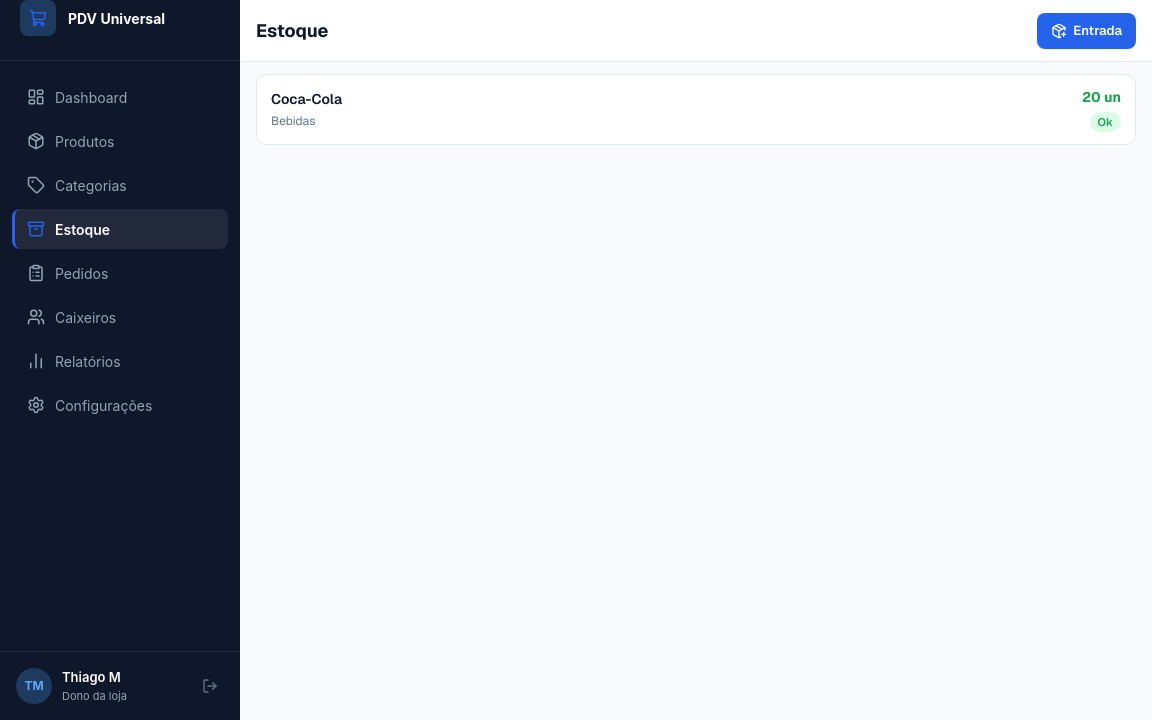
Test case: EstoquePage › opens the entrada sheet when "Entrada" button is clicked
What coordinates should you click on to do the following:
click the button "Entrada"
I would click on:
 (1087, 30)
Its box is [1037,12,1136,48].
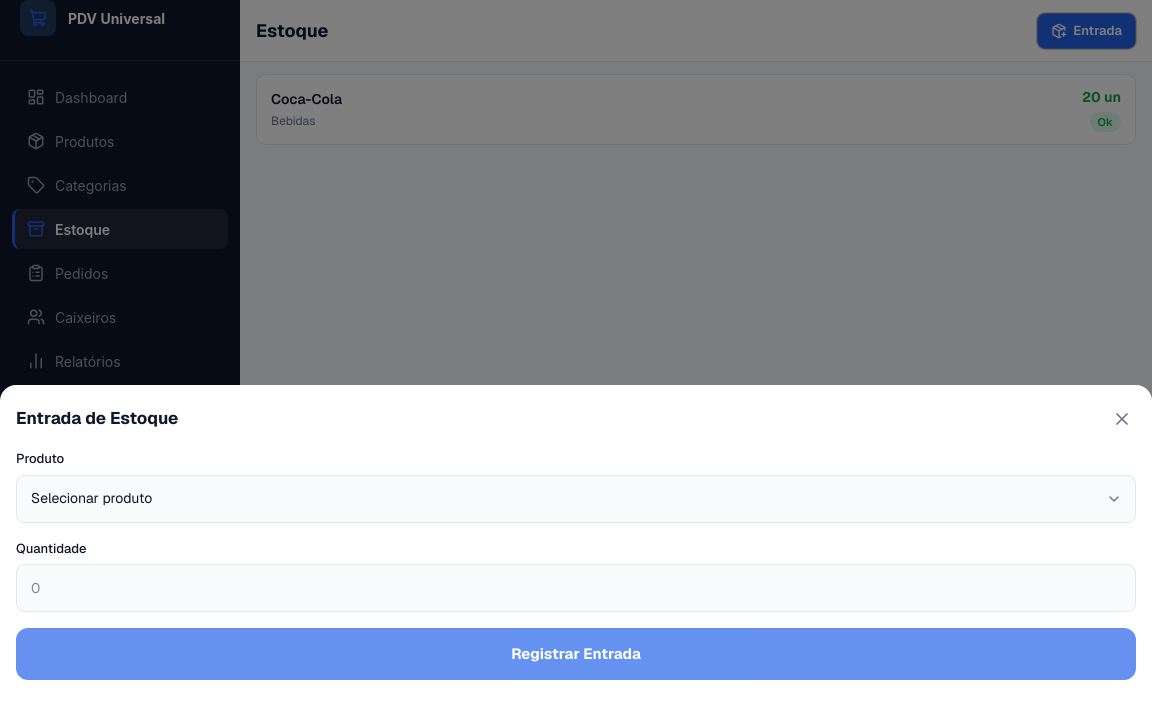
Expected: the text "Entrada de Estoque" is shown, [16,406,178,432]
